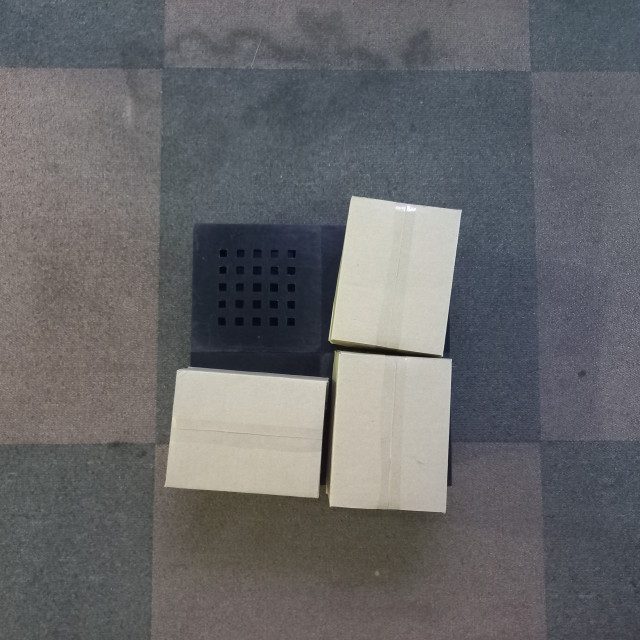box: (161, 364, 330, 502), (328, 191, 463, 359), (326, 349, 453, 515)
